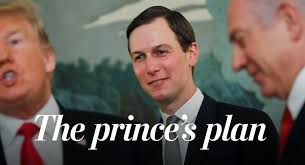middle_eastern_male: (223, 2, 298, 105)
